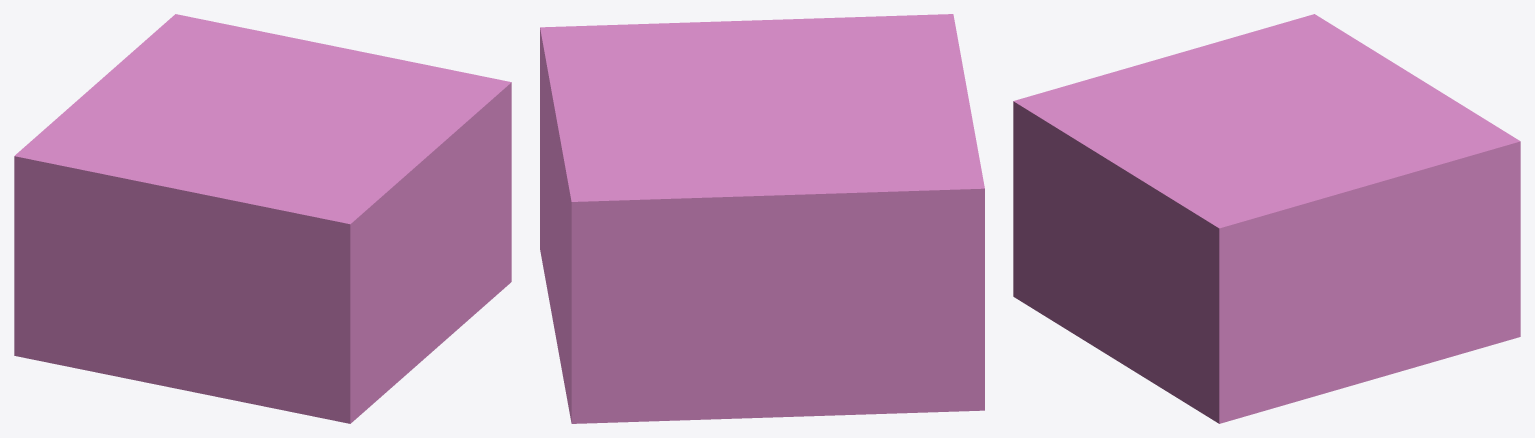
File: stickynotes.fbx
The picture shows the model from 3 angles, left to right: view 1: azimuth 30°, elevation 25°; view 2: azimuth 150°, elevation 25°; view 3: azimuth 270°, elevation 25°; orthographic projection. The views are drawn at different scales.
Visible parts, largest first — view 1: Cube.001; view 2: Cube.001; view 3: Cube.001.
Part boxes in pixels (bbox=[...]): Cube.001: bbox=[14, 14, 511, 423]; Cube.001: bbox=[540, 14, 984, 423]; Cube.001: bbox=[1013, 14, 1520, 423].
Size of the model in its own units: 56.99 by 24.22 by 56.99.
